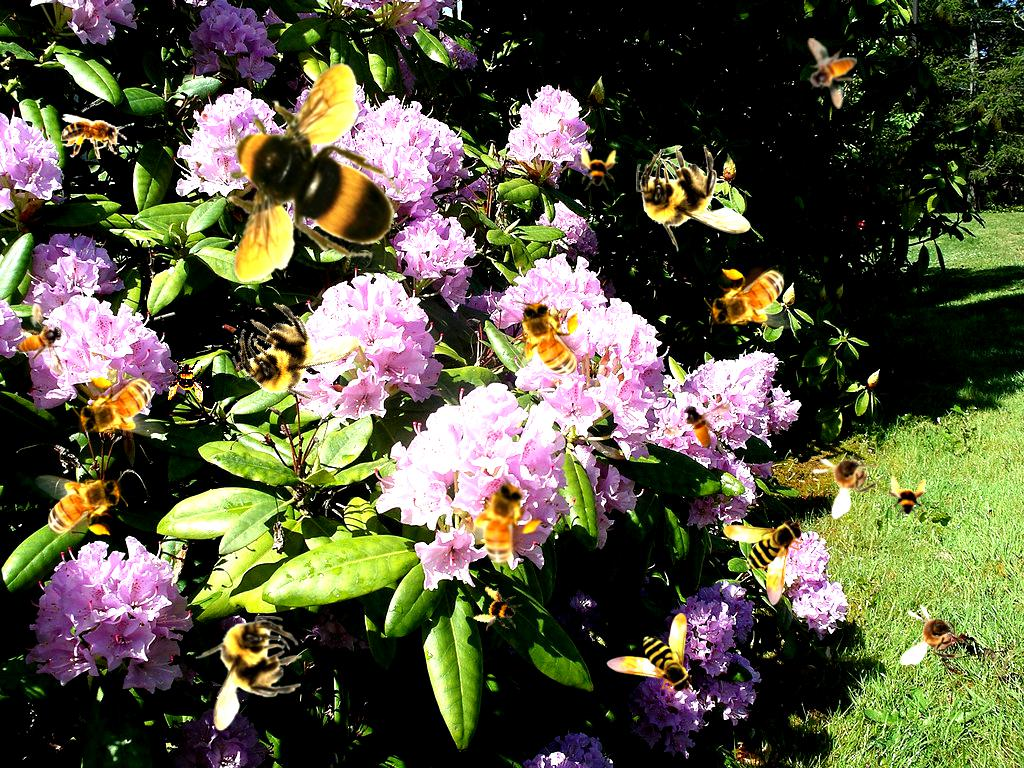Bee: (211, 62, 402, 282), (218, 274, 375, 429), (445, 466, 557, 583), (195, 616, 302, 731), (636, 145, 751, 252), (801, 431, 894, 521), (606, 613, 694, 695), (723, 518, 805, 606), (72, 373, 165, 441), (514, 295, 582, 388), (704, 265, 797, 333), (35, 471, 128, 539), (900, 604, 970, 665), (13, 301, 69, 376), (661, 401, 732, 451), (807, 38, 857, 109), (470, 583, 526, 639), (61, 114, 127, 159), (166, 359, 210, 403), (574, 147, 618, 191), (884, 476, 928, 520)
